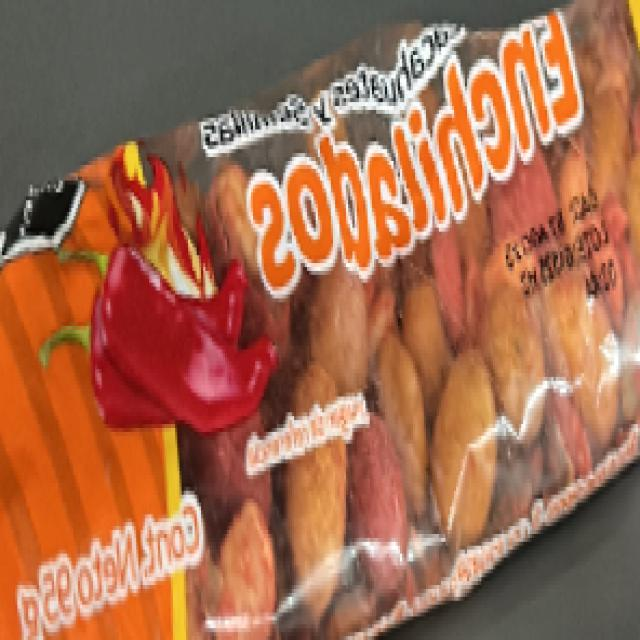bitzEnchilado95: (3, 24, 637, 624)
